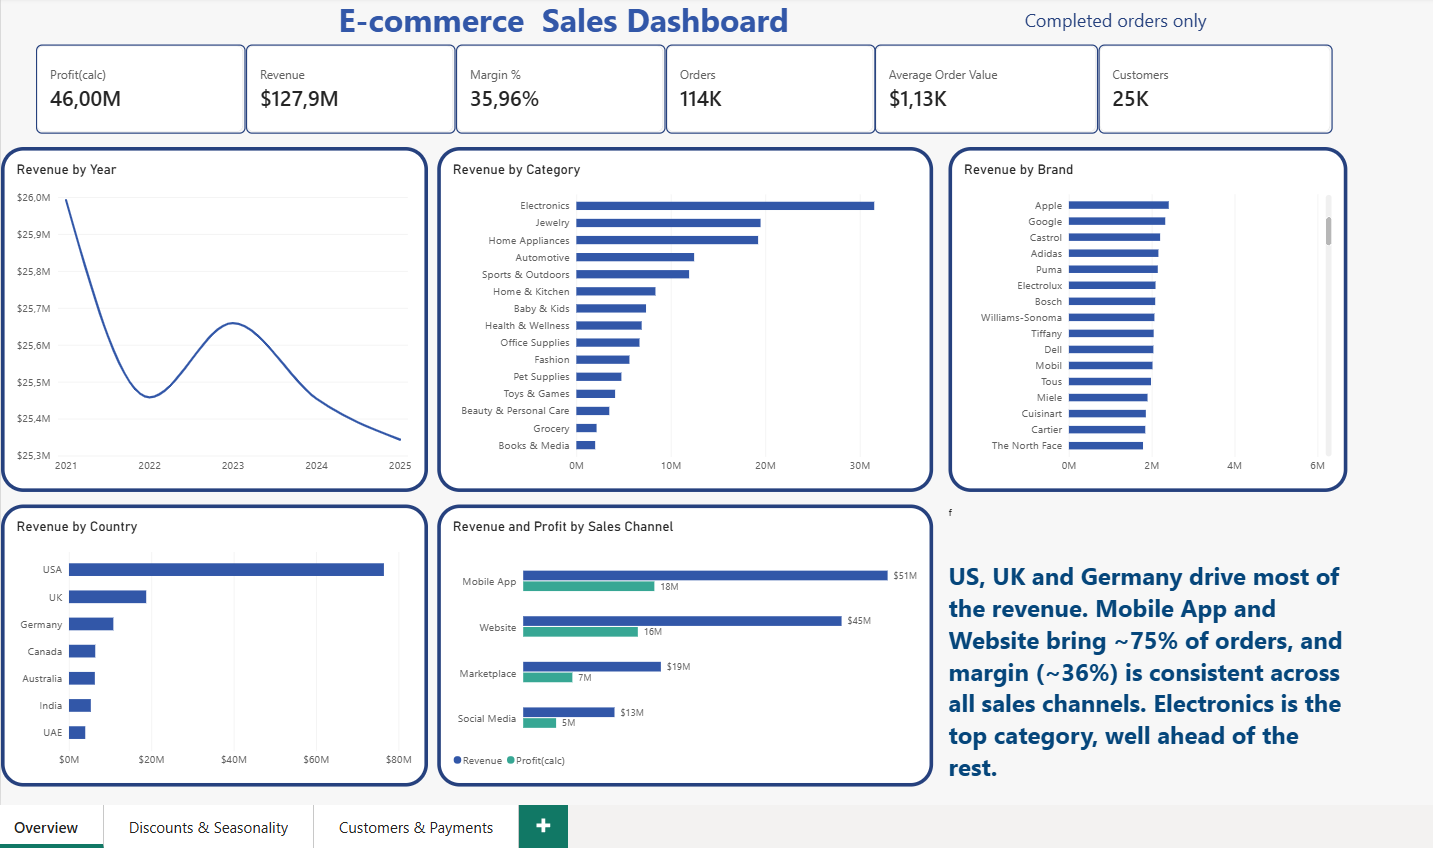

Layout of this report page (visuals, bound fields, positions):
{"tool":"powerbi","page":{"name":"Overview","canvas":[1920,1080],"ordinal":0},"visuals":[{"type":"cardVisual","fields":{"Data":["public fact_sales.Profit(calc)"]},"box":[47.3,63.8,279.9,119.4],"z":0},{"type":"cardVisual","fields":{"Data":["public dim_customers.Revenue"]},"box":[328.1,63.5,279.9,119.4],"z":1000},{"type":"cardVisual","fields":{"Data":["public fact_sales.Margin %"]},"box":[608,63.5,279.9,119.4],"z":2000},{"type":"cardVisual","fields":{"Data":["public fact_sales.Orders"]},"box":[888,63.4,279.9,119.4],"z":3000},{"type":"lineChart","title":"Revenue by Year","fields":{"Category":["public fact_sales.order_date.Variation.Date Hierarchy.Year","public fact_sales.order_date.Variation.Date Hierarchy.Quarter","public fact_sales.order_date.Variation.Date Hierarchy.Month","public fact_sales.order_date.Variation.Date Hierarchy.Day"],"Y":["public dim_customers.Revenue"]},"box":[0,199.7,570.2,461.1],"z":4000},{"type":"cardVisual","fields":{"Data":["public dim_customers.Average Order Value"]},"box":[1167.9,63.4,298.5,119.4],"z":5000},{"type":"cardVisual","fields":{"Data":["public dim_customers.Customers"]},"box":[1465.5,63.8,312.9,119.4],"z":6000},{"type":"clusteredBarChart","title":"Revenue by Category","fields":{"Category":["public dim_products.product_category"],"Y":["public order_items_clean.Item Revenue"]},"box":[582.5,199.7,662.8,461.1],"z":7000},{"type":"barChart","title":"Revenue by Brand","fields":{"Category":["public dim_products.brand"],"Y":["public order_items_clean.Item Revenue"]},"box":[1265.9,199.7,533.1,461.1],"z":8000},{"type":"barChart","title":"Revenue by Country","fields":{"Category":["public dim_customers.customer_country"],"Y":["public dim_customers.Revenue"]},"box":[0,677.2,570.2,376.7],"z":9000},{"type":"clusteredBarChart","title":"Revenue and Profit by Sales Channel","fields":{"Category":["public fact_sales.sales_channel"],"Y":["public fact_sales.Revenue","public fact_sales.Profit(calc)"]},"box":[582.5,677.2,662.8,376.7],"z":10000},{"type":"textbox","box":[1265.9,677.2,533.1,376.7],"z":11000},{"type":"textbox","box":[1718.7,0,201.7,59.7],"z":13000},{"type":"textbox","box":[450.8,0,701.9,63.8],"z":14000},{"type":"textbox","box":[1366.7,14.4,535.2,45.3],"z":15000}]}

Visuals, with their boxes in screenshot pixels (x1, y1, x2, y2):
cardVisual - public fact_sales.Profit(calc): (46, 47, 252, 135)
cardVisual - public dim_customers.Revenue: (253, 47, 459, 135)
cardVisual - public fact_sales.Margin %: (459, 47, 665, 135)
cardVisual - public fact_sales.Orders: (665, 47, 871, 135)
"Revenue by Year" lineChart: (11, 147, 431, 486)
cardVisual - public dim_customers.Average Order Value: (871, 47, 1091, 135)
cardVisual - public dim_customers.Customers: (1090, 47, 1320, 135)
"Revenue by Category" clusteredBarChart: (440, 147, 928, 486)
"Revenue by Brand" barChart: (943, 147, 1335, 486)
"Revenue by Country" barChart: (11, 498, 431, 776)
"Revenue and Profit by Sales Channel" clusteredBarChart: (440, 498, 928, 776)
textbox: (943, 498, 1335, 776)
textbox: (1276, 0, 1425, 44)
textbox: (343, 0, 860, 47)
textbox: (1017, 11, 1411, 44)
